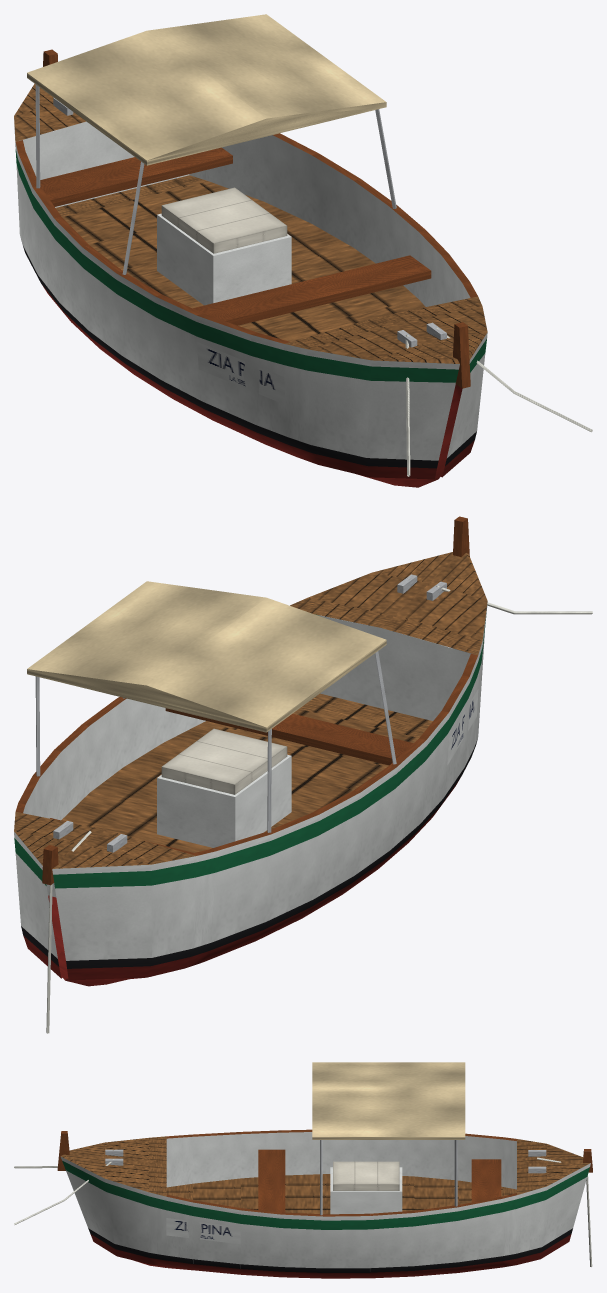
File: SM_Morin_Barca_Gozzo_FasciaVerde_Prua.fbx
3 views of the same model, one above another, from view 1: azimuth 30°, elevation 25°; view 2: azimuth 150°, elevation 25°; view 3: azimuth 270°, elevation 25° (orthographic). The views are drawn at different scales.
Parts seen in each view (by area): view 1: SM_Morin_Barca_Gozzo_FasciaVerde_Prua; view 2: SM_Morin_Barca_Gozzo_FasciaVerde_Prua; view 3: SM_Morin_Barca_Gozzo_FasciaVerde_Prua.
Part boxes in pixels (x1,y1,x2,y2): SM_Morin_Barca_Gozzo_FasciaVerde_Prua: (14, 14, 592, 487); SM_Morin_Barca_Gozzo_FasciaVerde_Prua: (14, 516, 592, 1033); SM_Morin_Barca_Gozzo_FasciaVerde_Prua: (14, 1062, 592, 1278).
Size of the model in its own units: 229 by 644 by 222.
1 material, 1 textured.
